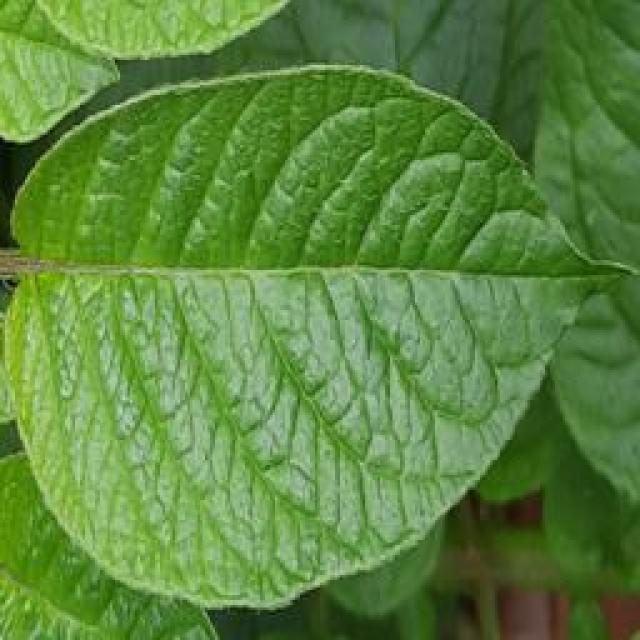healthy: (0, 57, 635, 615)
